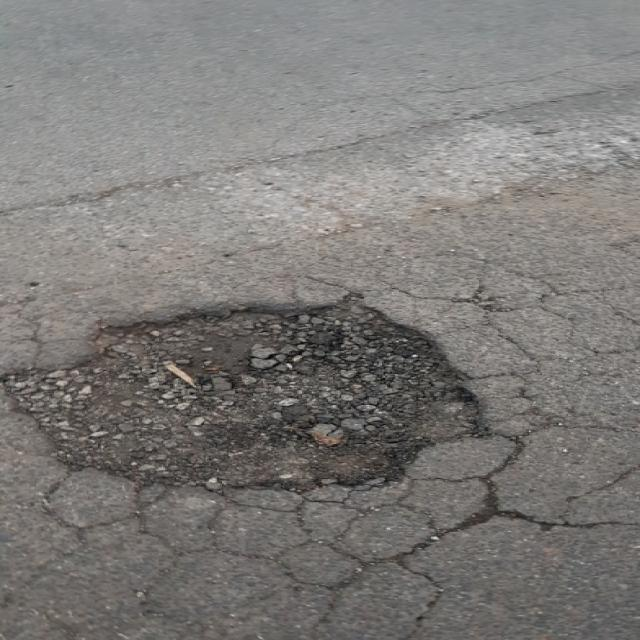pothole: (3, 285, 510, 496)
